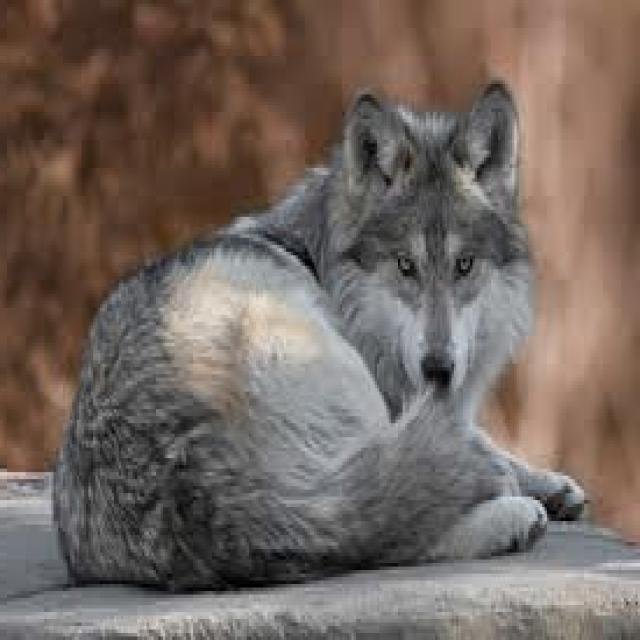wolf: (56, 80, 584, 588)
